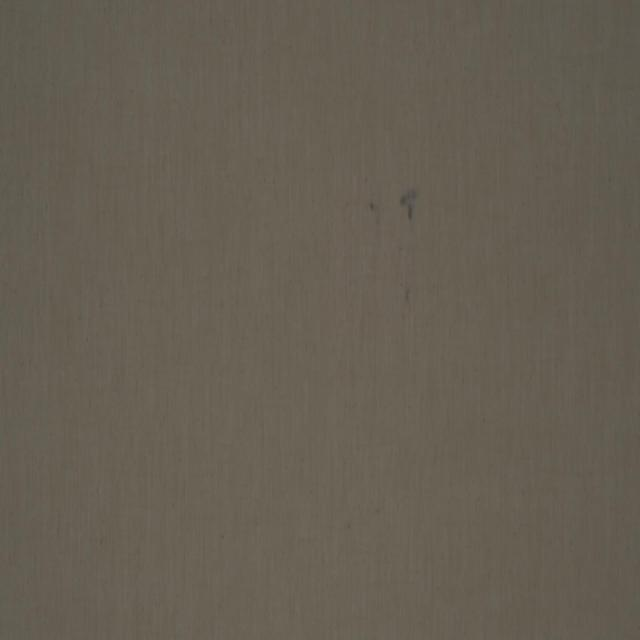dirty: (400, 187, 417, 222)
